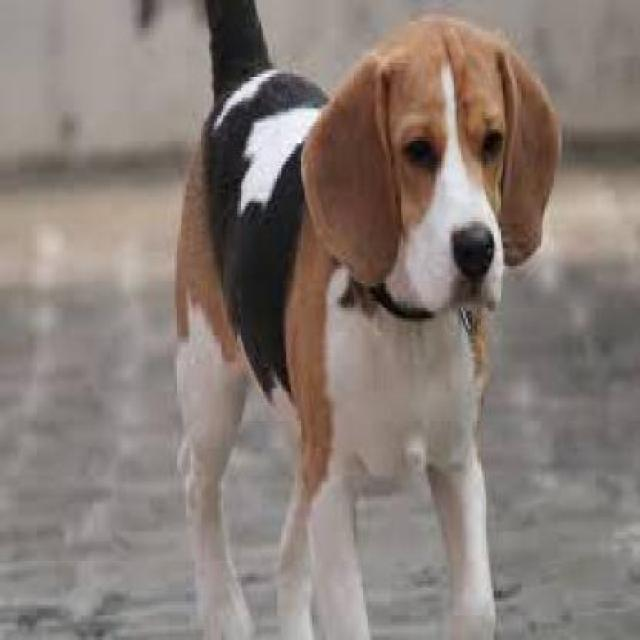Dog: (169, 1, 568, 638)
